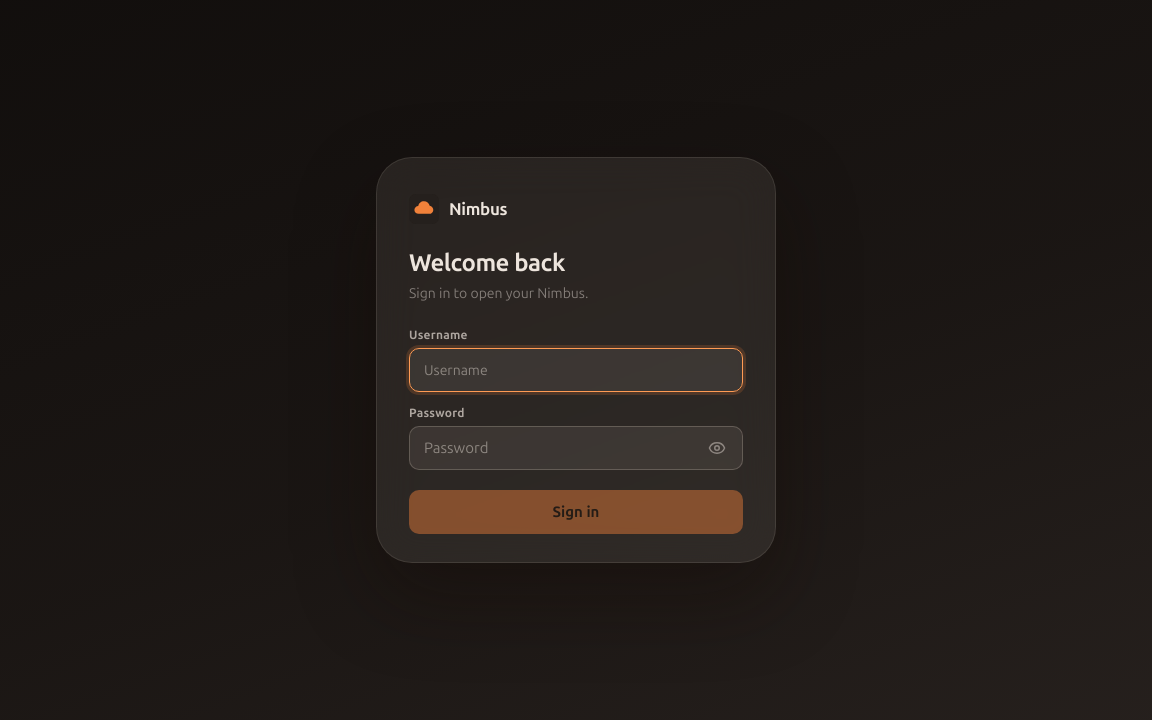
Test: Login Component › displays error message when login API fails
Type "admin" into the field with placeholder "Username" at (576, 370), box x1=409 y1=348 x2=743 y2=392
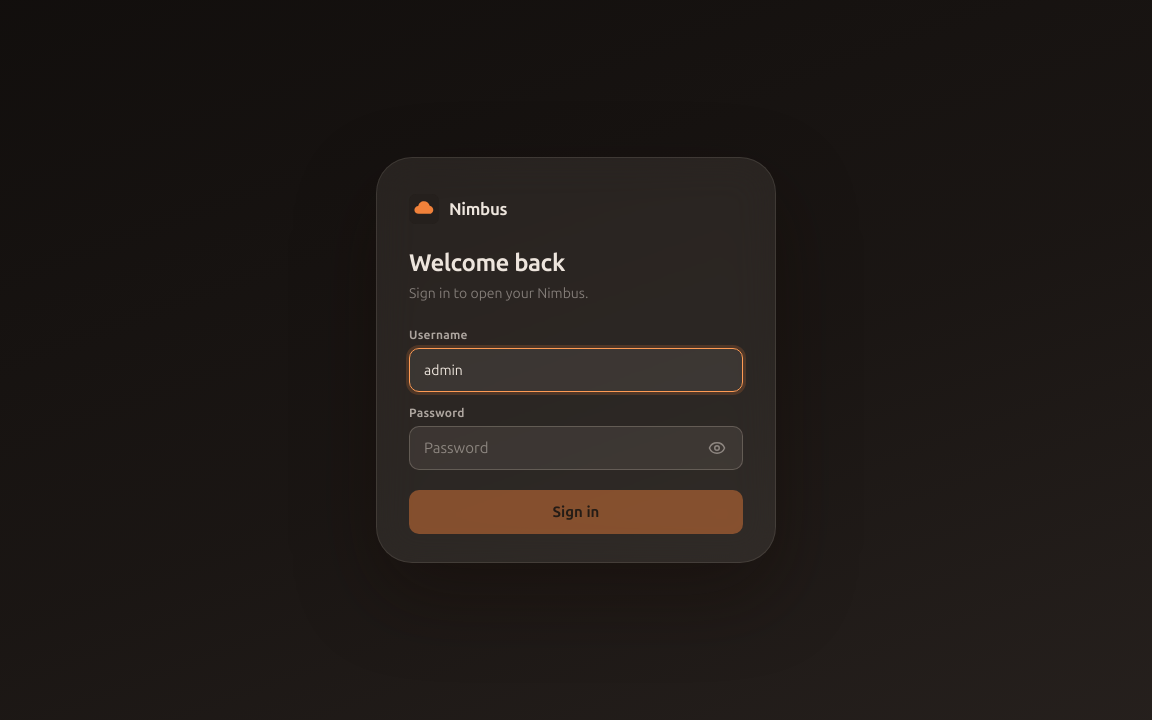
Type "wrong-password" into the password field with placeholder "Password" at (576, 448), box x1=409 y1=426 x2=743 y2=470
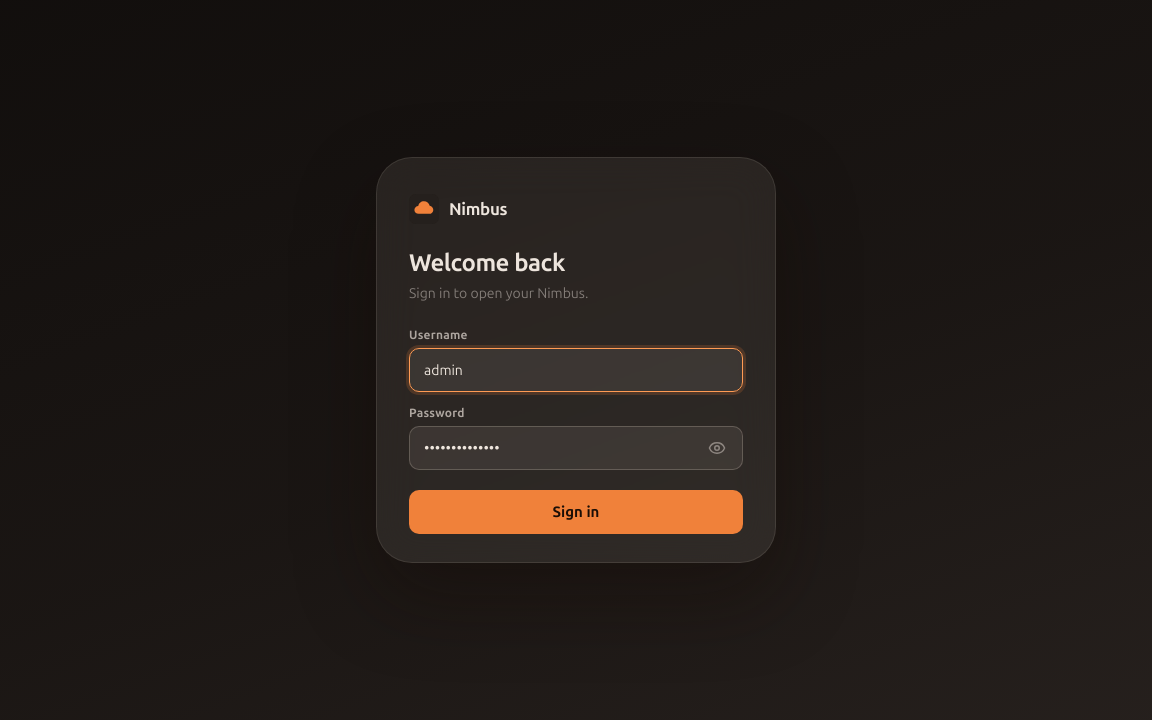
Click the button "Sign in" at (576, 512), box x1=409 y1=490 x2=743 y2=534
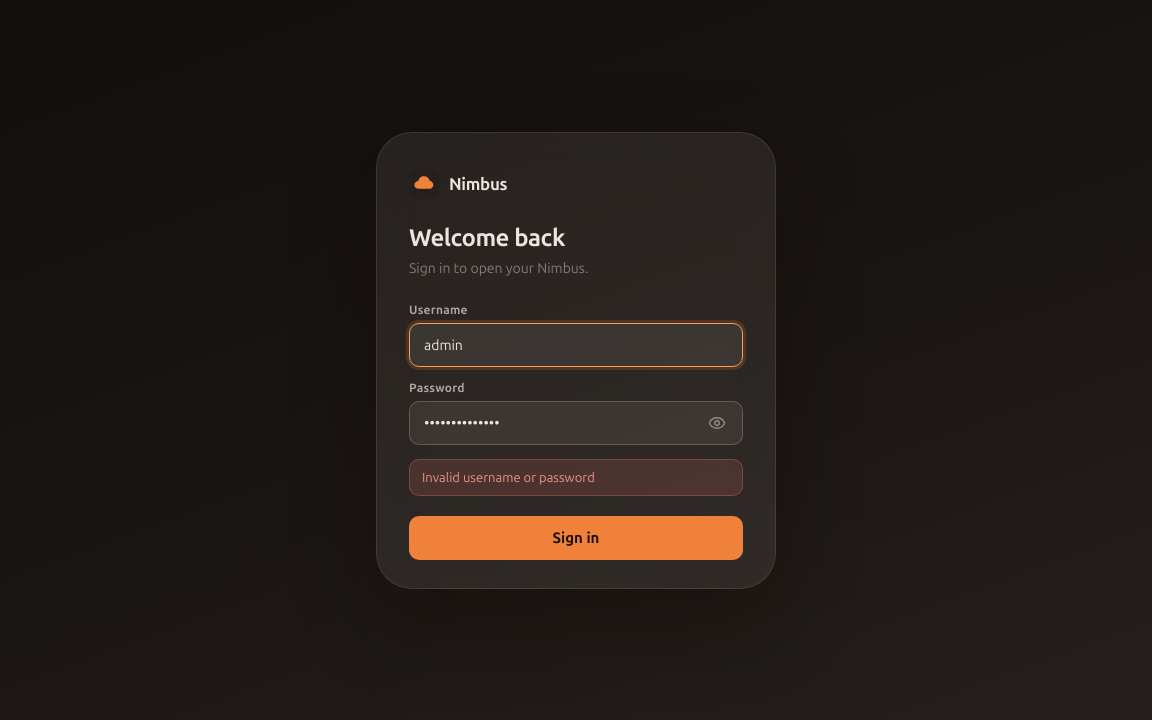
Check: the text "Invalid username or password" is shown, box x1=409 y1=458 x2=743 y2=496
